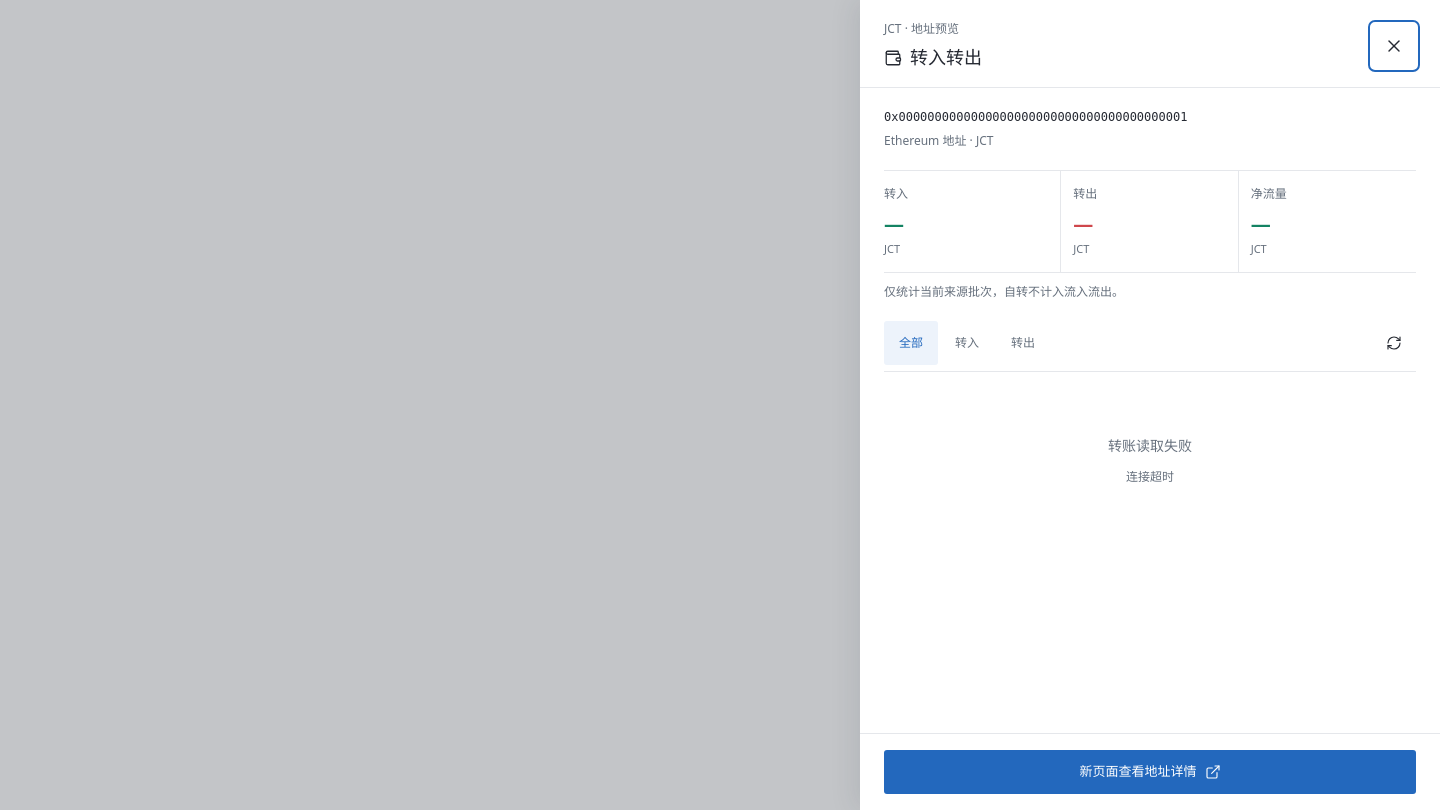
failed requests can retry and a successful empty batch is distinguished from failure
expect the message shows "连接超时": met, box [1126,468,1174,485]
Click the button named "重新读取转账" at (1394, 342), box [1372,320,1416,364]
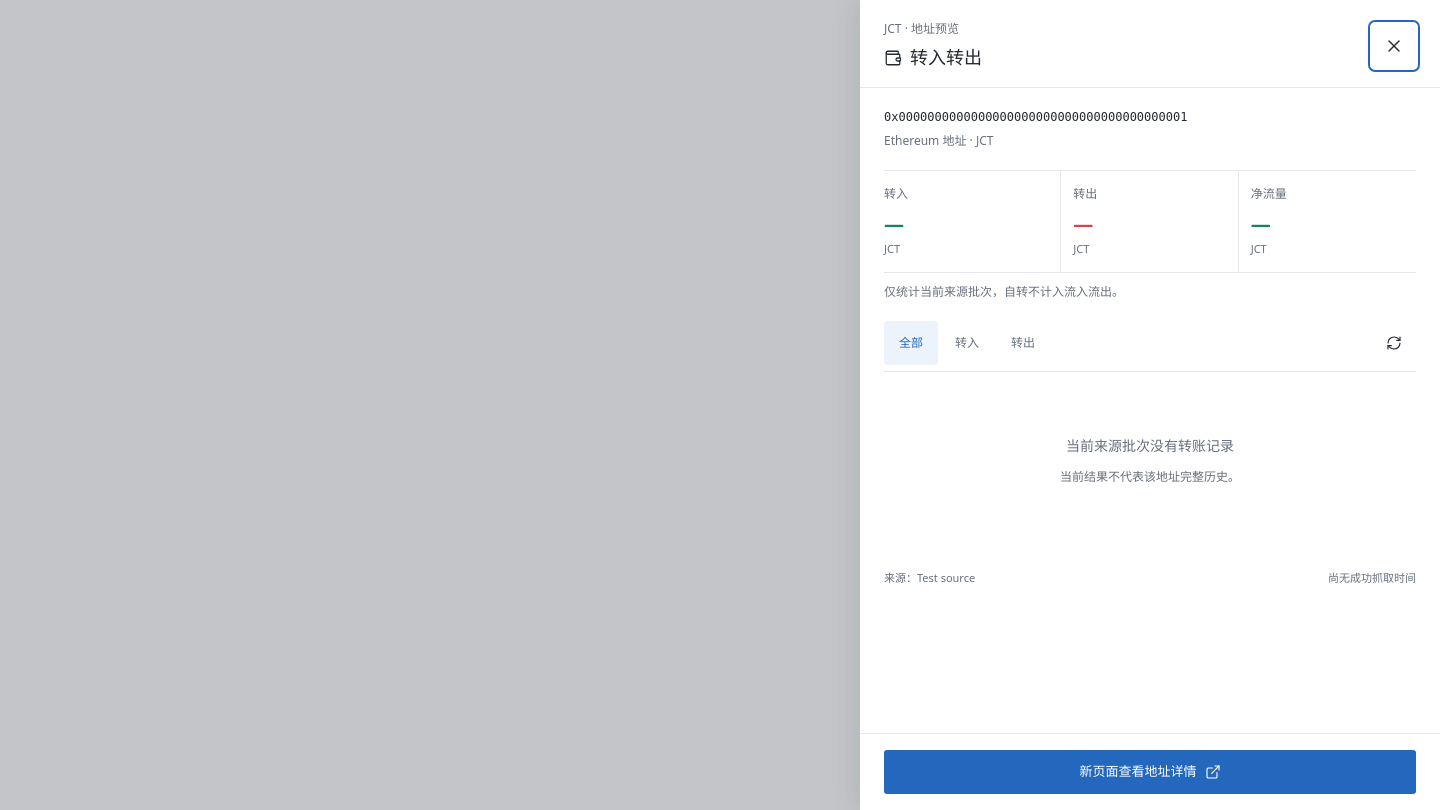
expect the text "当前来源批次没有转账记录" is shown: met, box [1066,435,1234,456]
